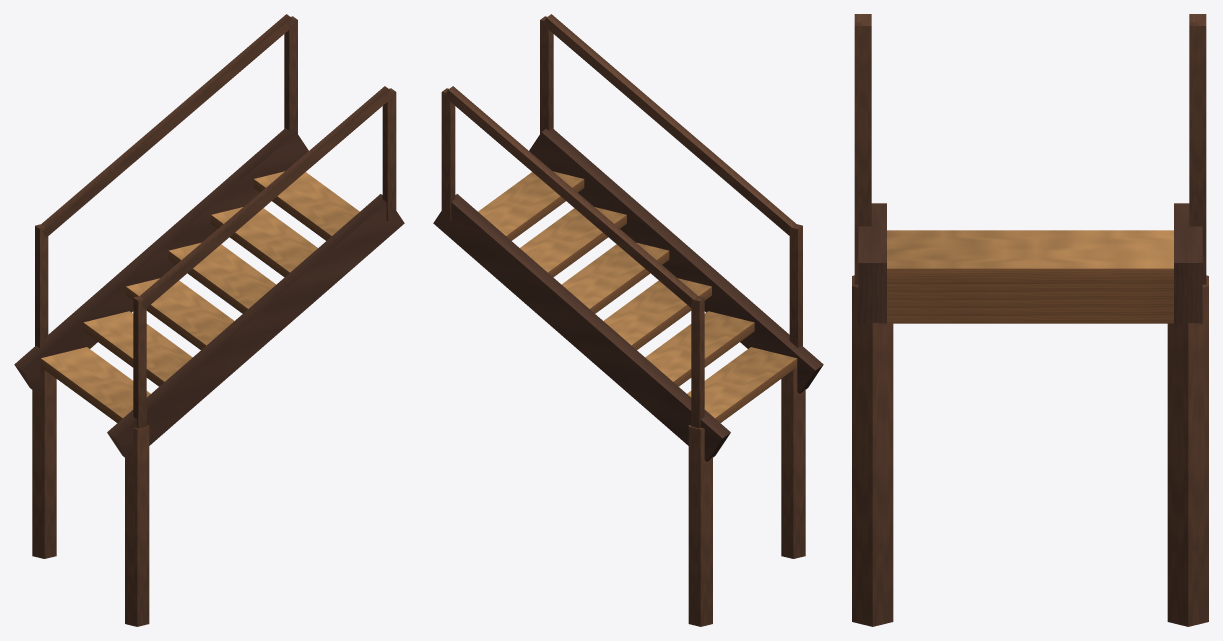
Rendered from dock_stairs_01.glb.
The picture shows the model from 3 angles, left to right: view 1: azimuth 30°, elevation 25°; view 2: azimuth 150°, elevation 25°; view 3: azimuth 270°, elevation 25°; orthographic projection. The views are drawn at different scales.
Visible parts, largest first — view 1: dock_stairs_01; view 2: dock_stairs_01; view 3: dock_stairs_01.
Boxes of the visible parts, <box> form: dock_stairs_01: <box>14,14,404,626</box>; dock_stairs_01: <box>433,14,823,626</box>; dock_stairs_01: <box>852,14,1208,626</box>.
Bounding box in the file's own units: 2.38 × 3.73 × 1.49.
Materials: 1 (1 with a texture image).
